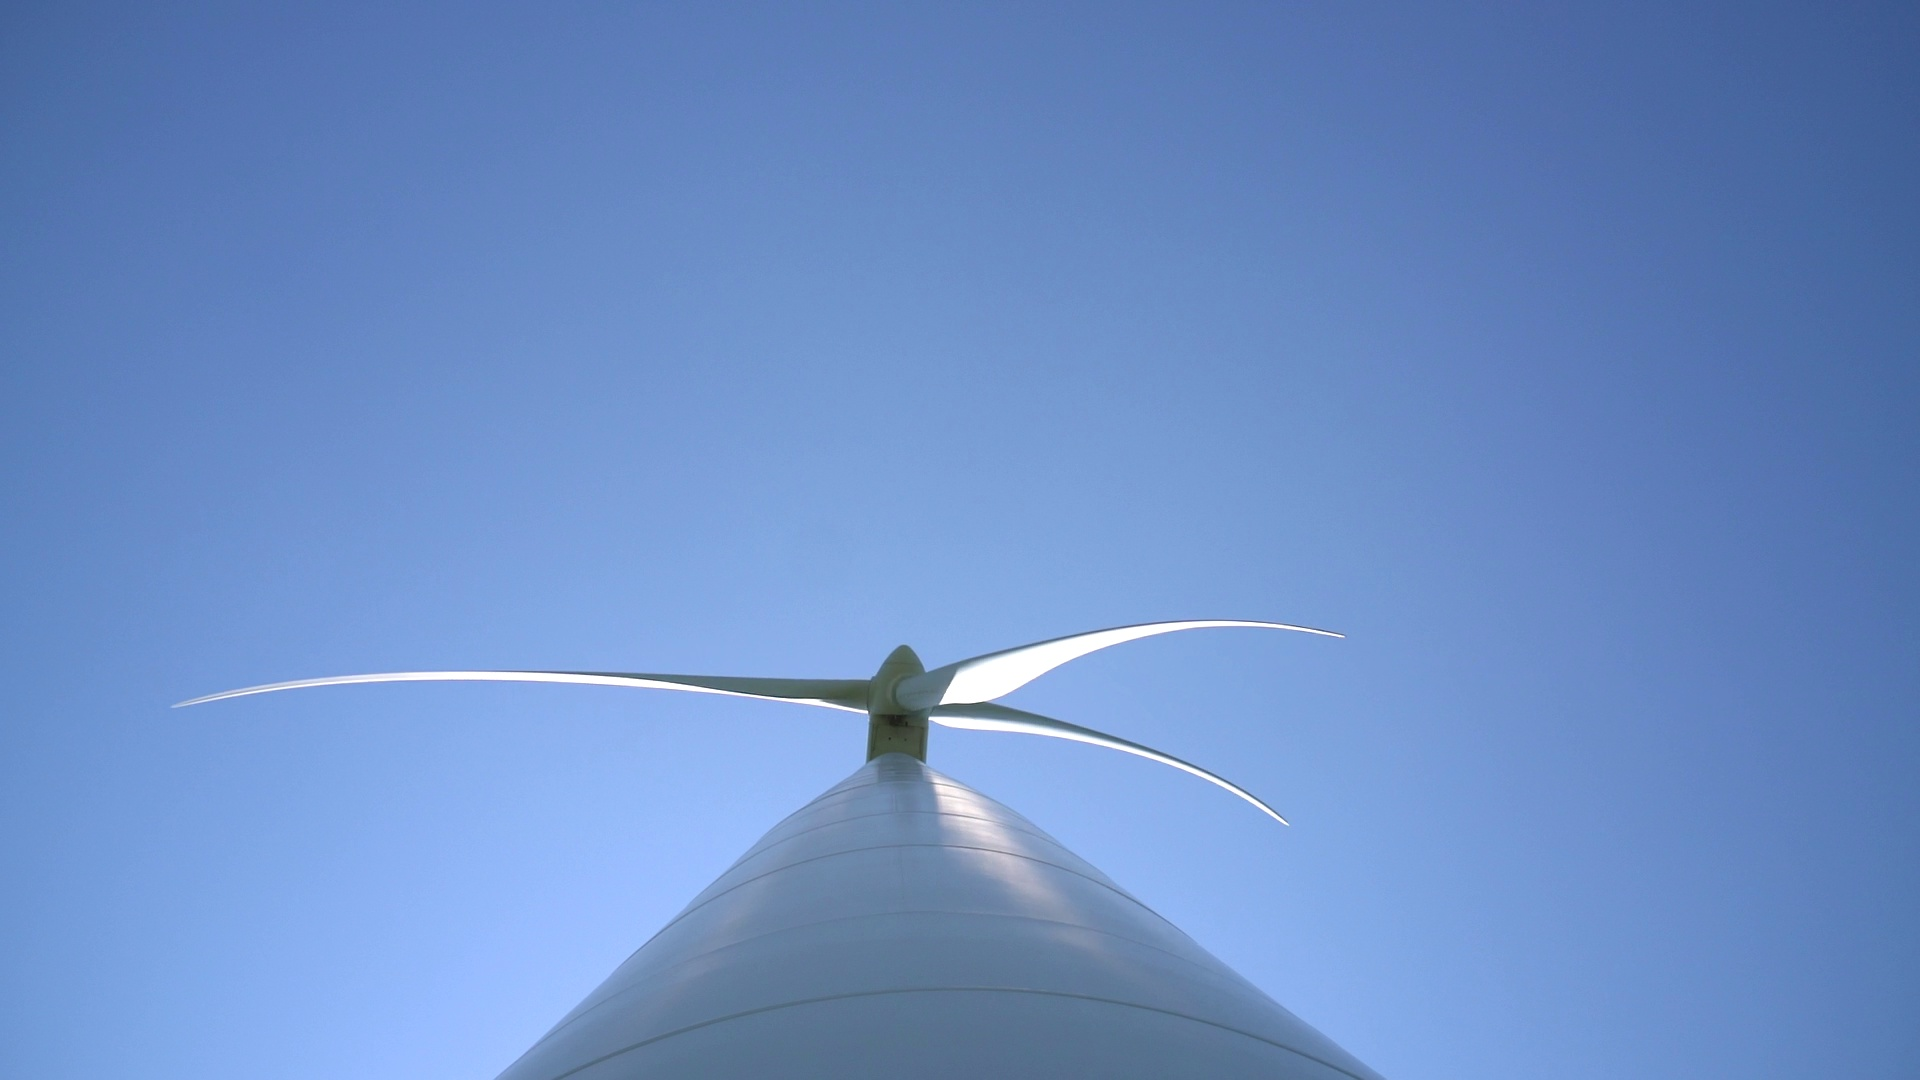turbine: (127, 634, 864, 742), (930, 687, 1323, 858), (924, 583, 1418, 698)
